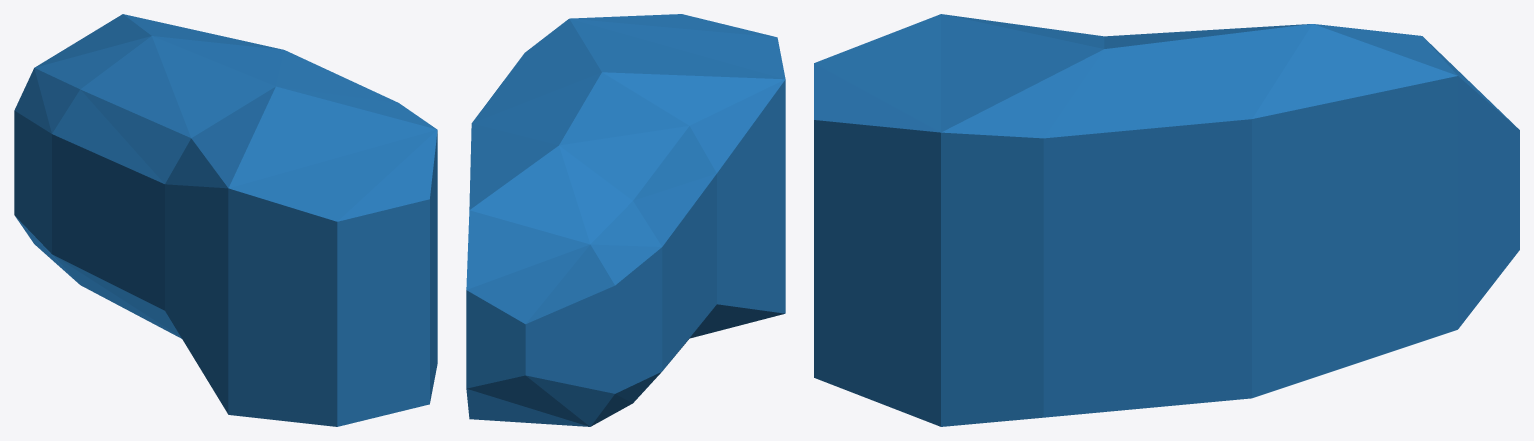
Rendered from finger3.dae.
3 views of the same model, side by side, from view 1: azimuth 30°, elevation 25°; view 2: azimuth 150°, elevation 25°; view 3: azimuth 270°, elevation 25° (orthographic). The views are drawn at different scales.
Visible parts, largest first — view 1: finger-phadist-bb_wrl__Geometry_0; view 2: finger-phadist-bb_wrl__Geometry_0; view 3: finger-phadist-bb_wrl__Geometry_0.
Boxes of the visible parts, x1,y1,x2,y2 form: finger-phadist-bb_wrl__Geometry_0: (14, 14, 437, 426); finger-phadist-bb_wrl__Geometry_0: (466, 14, 785, 426); finger-phadist-bb_wrl__Geometry_0: (814, 14, 1519, 426).
Bounding box in the file's own units: 0.0278 × 0.0563 × 0.0296.
